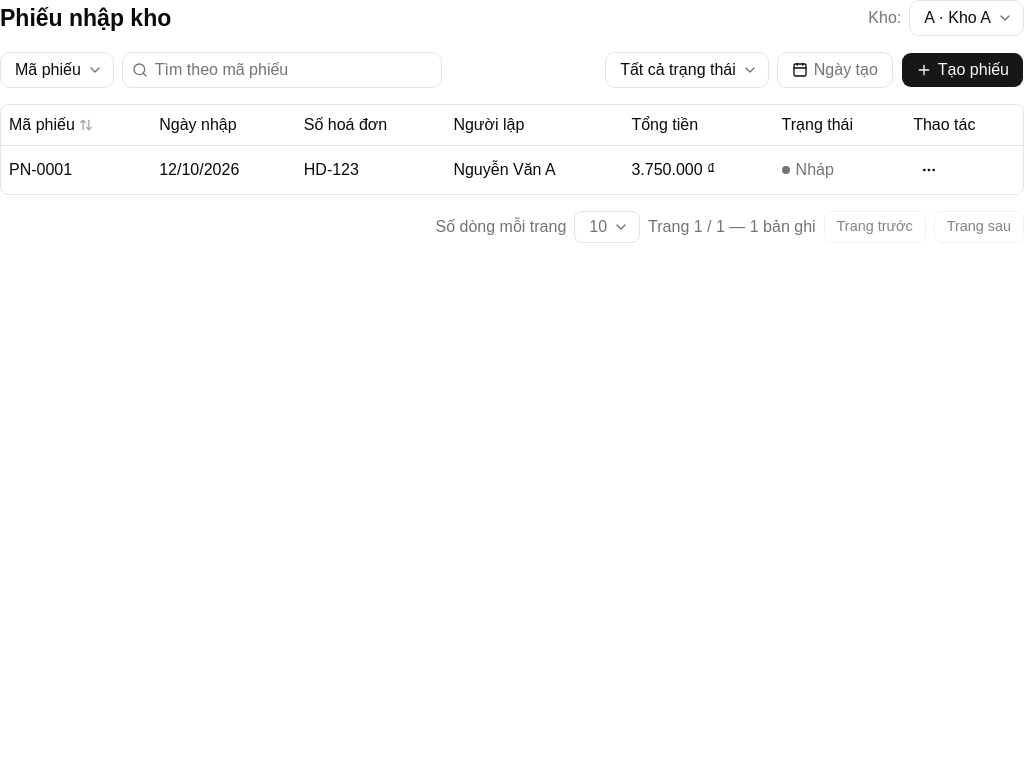
ImportFormsPage › đóng sheet tạo (chưa sửa gì) → về danh sách, sheet biến mất
This screenshot has width=1024, height=768.
Click the button "Tạo phiếu": (962, 70) [901,52,1023,88]
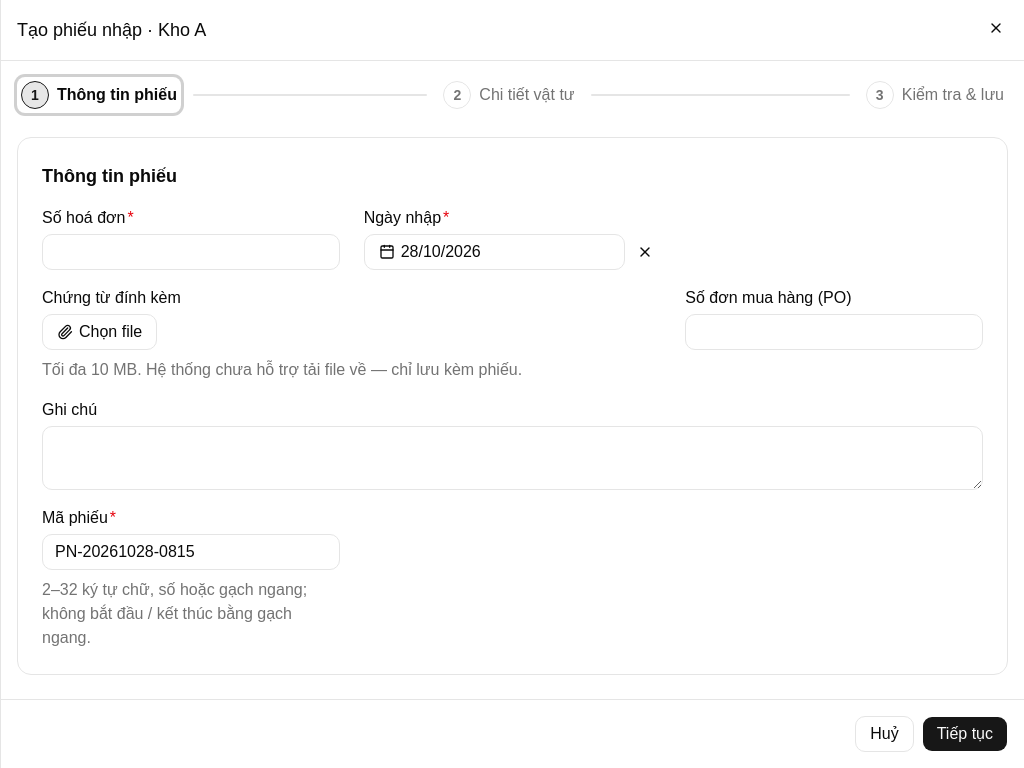
Expected: the dialog "Tạo phiếu nhập · Kho A" is shown
Click the button "Huỷ": (884, 734) [855,716,914,752]
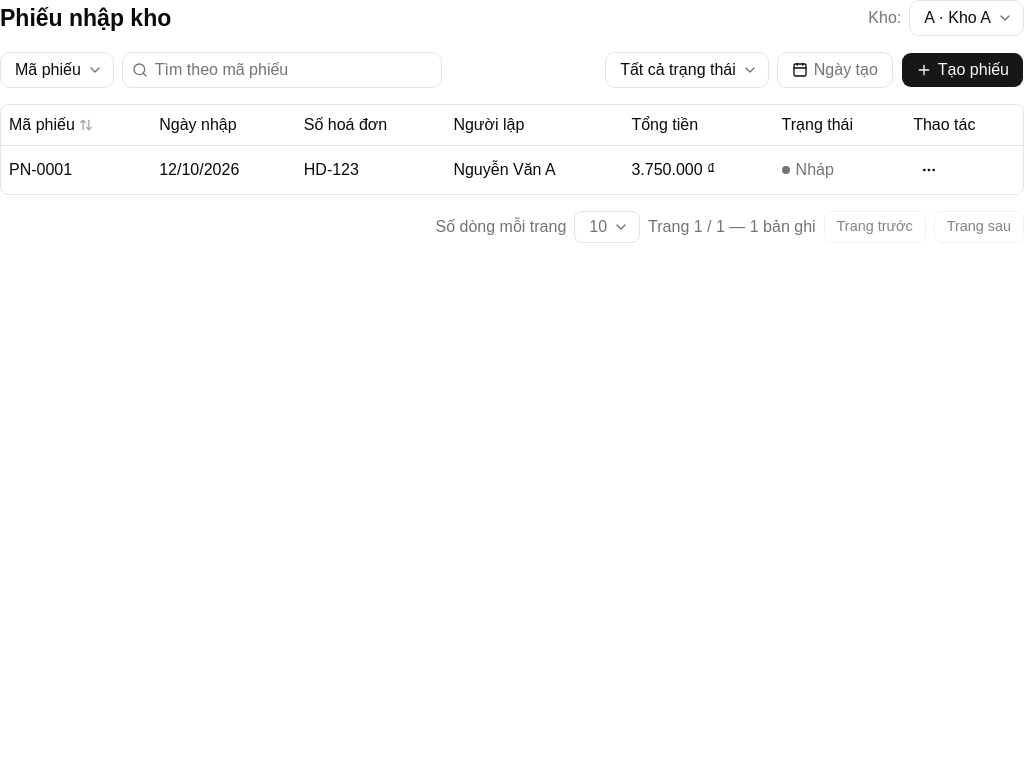
Expected: the dialog is gone
